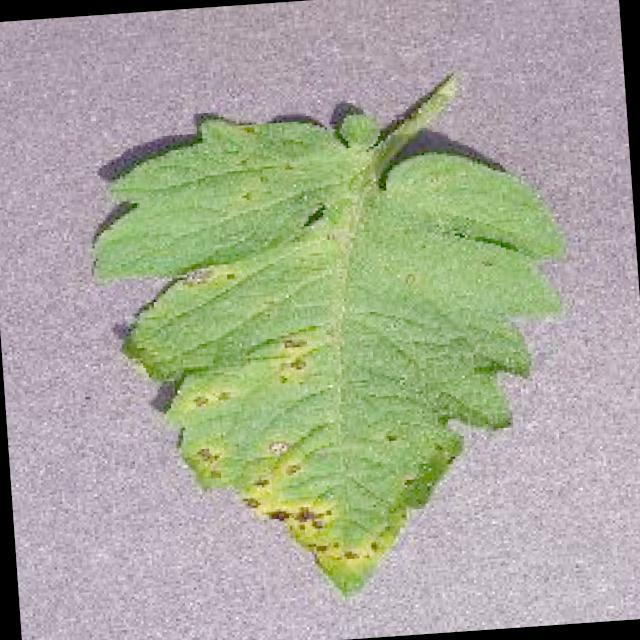Tomato Septoria spot leaf: (81, 96, 593, 615)
